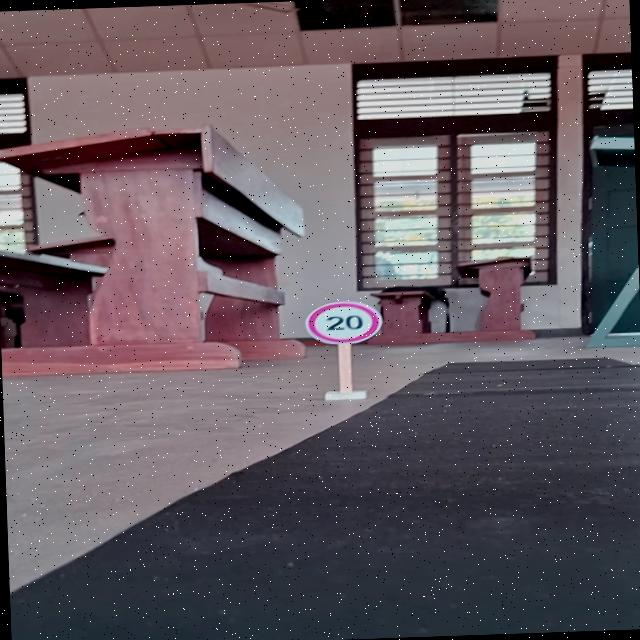Speed20: (301, 296, 388, 348)
